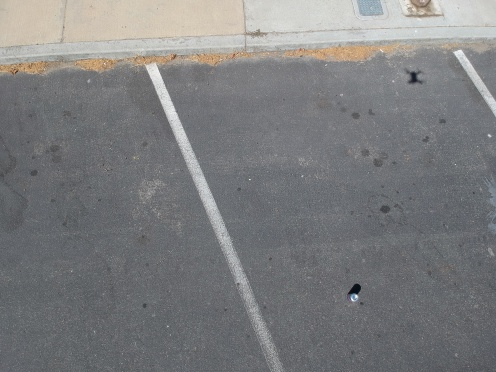can: (344, 293, 363, 307)
